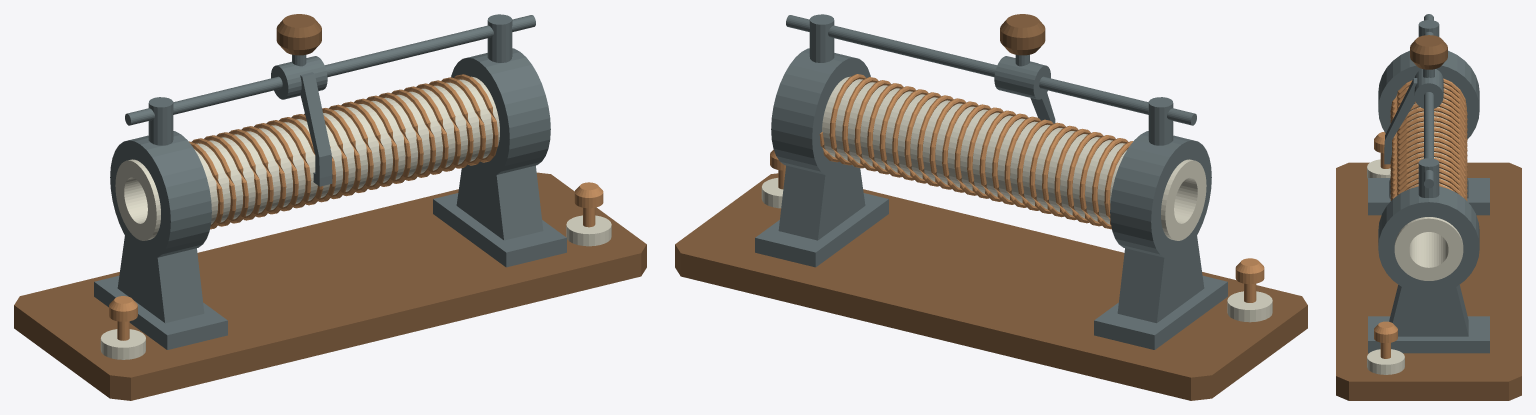
3 renders of one model, left to right at view 1: azimuth 30°, elevation 25°; view 2: azimuth 150°, elevation 25°; view 3: azimuth 270°, elevation 25°, orthographic. The views are drawn at different scales.
Parts seen in each view (by area): view 1: WholeChamferedInstrumentBoard, WholeHollowCeramicTube, WholeContinuousTubeWinding, LeftWholeBoredTubeSeat, RightWholeBoredTubeSeat, LeftWholeTubeStandUpright, RightWholeTubeStandUpright, WholeIndependentUpperGuideBar, RightWholeTubeStandFoot, LeftWholeTubeStandFoot, WholeBentSliderContactArm, WholeSliderHandleKnob (+7 smaller); view 2: WholeChamferedInstrumentBoard, WholeHollowCeramicTube, WholeContinuousTubeWinding, LeftWholeBoredTubeSeat, RightWholeBoredTubeSeat, LeftWholeTubeStandUpright, RightWholeTubeStandUpright, WholeIndependentUpperGuideBar, LeftWholeTubeStandFoot, RightWholeTubeStandFoot, WholeBoredFixedSliderSleeve, WholeSliderHandleKnob (+4 smaller); view 3: WholeChamferedInstrumentBoard, WholeContinuousTubeWinding, RightWholeBoredTubeSeat, WholeHollowCeramicTube, RightWholeTubeStandUpright, LeftWholeBoredTubeSeat, RightWholeTubeStandFoot, LeftWholeTubeStandFoot, WholeSliderHandleKnob, WholeIndependentUpperGuideBar, WholeBentSliderContactArm, WholeBoredFixedSliderSleeve (+6 smaller).
Boxes of the visible parts, x1,y1,x2,y2 form: WholeChamferedInstrumentBoard: [14, 172, 646, 400]; WholeHollowCeramicTube: [115, 76, 499, 240]; WholeContinuousTubeWinding: [189, 74, 498, 229]; LeftWholeBoredTubeSeat: [110, 131, 211, 258]; RightWholeBoredTubeSeat: [451, 48, 550, 176]; LeftWholeTubeStandUpright: [117, 236, 204, 323]; RightWholeTubeStandUpright: [456, 165, 543, 240]; WholeIndependentUpperGuideBar: [125, 15, 535, 125]; RightWholeTubeStandFoot: [433, 193, 566, 267]; LeftWholeTubeStandFoot: [94, 275, 227, 349]; WholeBentSliderContactArm: [300, 72, 332, 186]; WholeSliderHandleKnob: [276, 14, 321, 55]; WholeChamferedInstrumentBoard: [675, 173, 1307, 400]; WholeHollowCeramicTube: [822, 76, 1206, 240]; WholeContinuousTubeWinding: [819, 74, 1133, 229]; LeftWholeBoredTubeSeat: [1110, 131, 1211, 258]; RightWholeBoredTubeSeat: [771, 48, 870, 176]; LeftWholeTubeStandUpright: [1117, 236, 1204, 323]; RightWholeTubeStandUpright: [778, 165, 865, 240]; WholeIndependentUpperGuideBar: [786, 15, 1196, 125]; LeftWholeTubeStandFoot: [1094, 275, 1227, 349]; RightWholeTubeStandFoot: [755, 193, 888, 267]; WholeBoredFixedSliderSleeve: [994, 56, 1050, 99]; WholeSliderHandleKnob: [1000, 14, 1045, 55]; WholeChamferedInstrumentBoard: [1336, 162, 1521, 400]; WholeContinuousTubeWinding: [1390, 78, 1467, 201]; RightWholeBoredTubeSeat: [1378, 186, 1479, 293]; WholeHollowCeramicTube: [1394, 83, 1463, 280]; RightWholeTubeStandUpright: [1389, 285, 1468, 336]; LeftWholeBoredTubeSeat: [1378, 50, 1479, 139]; RightWholeTubeStandFoot: [1368, 316, 1489, 353]; LeftWholeTubeStandFoot: [1368, 178, 1489, 215]; WholeSliderHandleKnob: [1410, 35, 1447, 69]; WholeIndependentUpperGuideBar: [1424, 14, 1433, 188]; WholeBentSliderContactArm: [1384, 78, 1417, 164]; WholeBoredFixedSliderSleeve: [1414, 69, 1443, 108].
Bounding box in the file's own units: 0.602 × 0.305 × 0.216.
